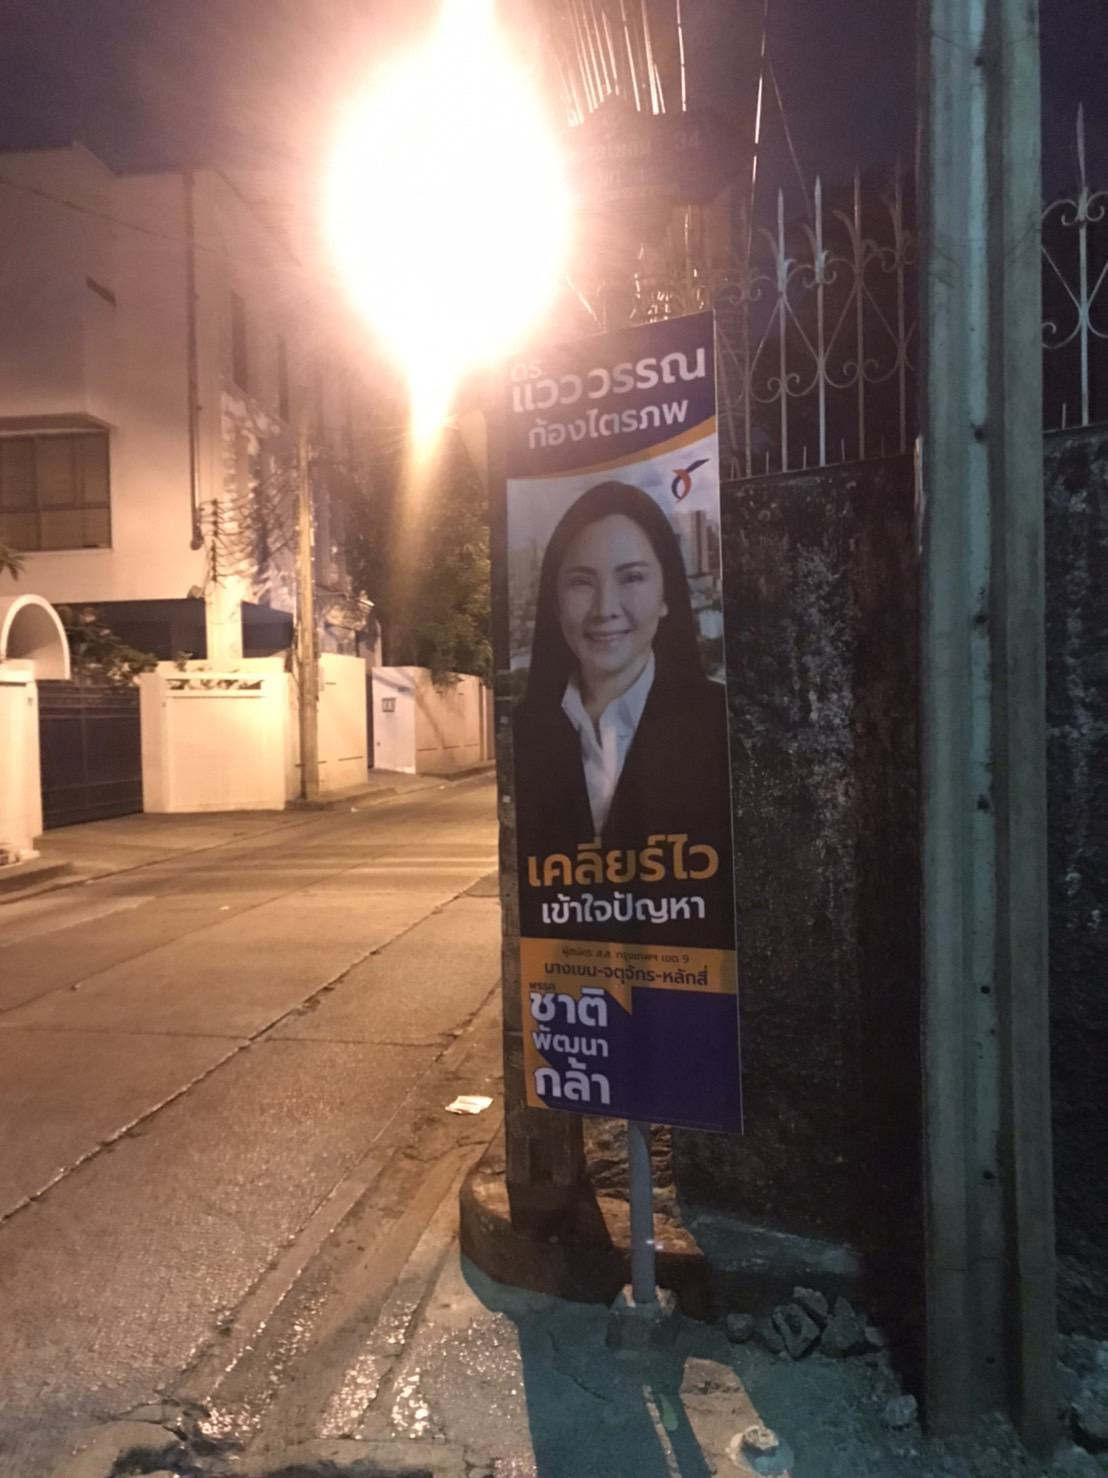Banner: (467, 327, 772, 1134)
